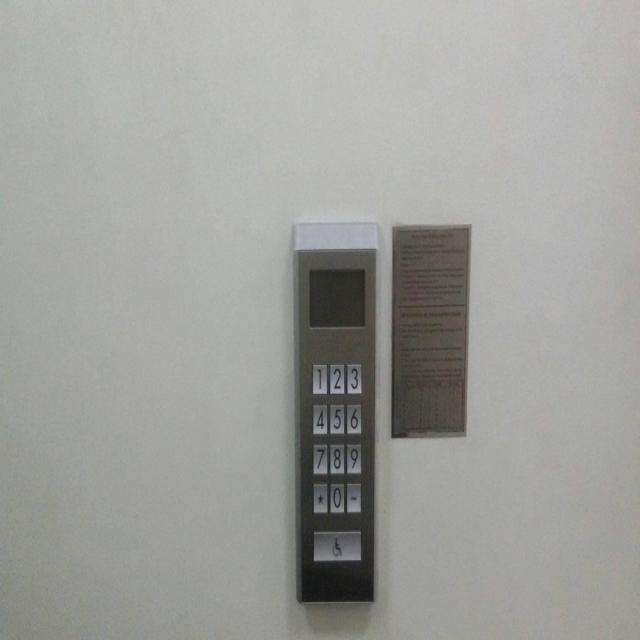-: (347, 482, 361, 513)
0: (329, 482, 344, 512)
1: (312, 364, 327, 394)
2: (330, 363, 344, 395)
3: (347, 364, 361, 394)
4: (312, 403, 327, 434)
5: (329, 403, 344, 434)
6: (347, 404, 361, 433)
7: (312, 443, 328, 474)
8: (329, 443, 344, 474)
9: (346, 442, 361, 474)
CH: (313, 531, 361, 561)
led: (308, 267, 366, 328)
s: (313, 484, 327, 514)
